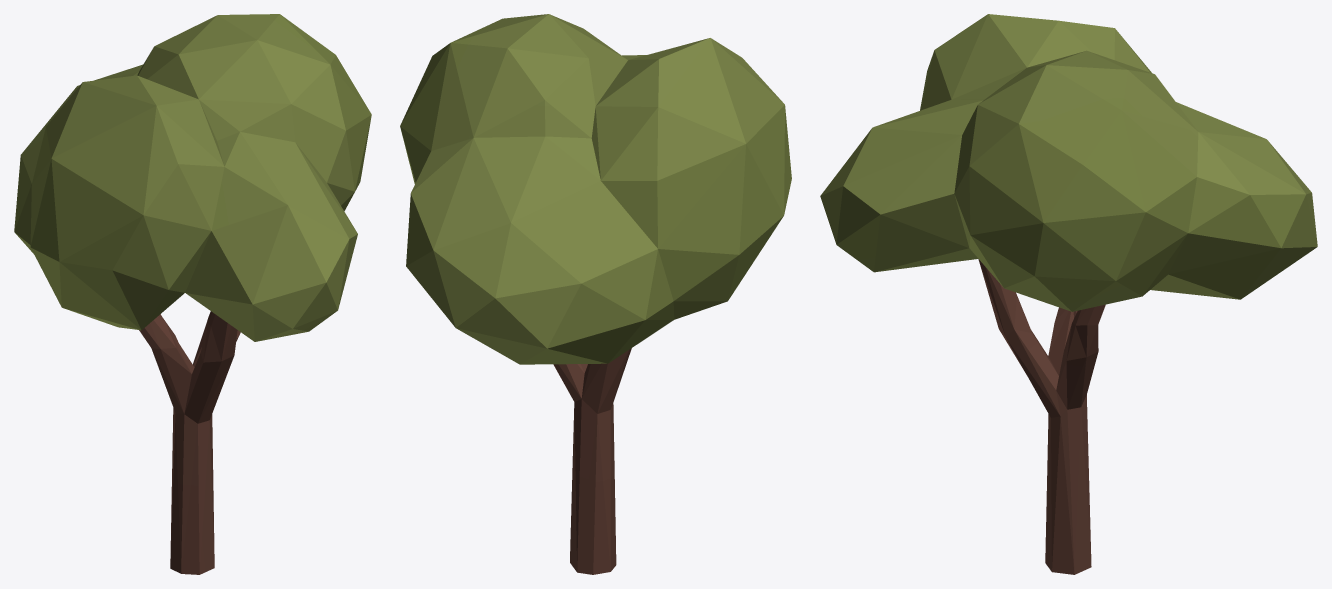
The model's file is Tree1.fbx.
The picture shows the model from 3 angles, left to right: view 1: azimuth 30°, elevation 25°; view 2: azimuth 150°, elevation 25°; view 3: azimuth 270°, elevation 25°; orthographic projection.
Parts seen in each view (by area): view 1: Cylinder; view 2: Cylinder; view 3: Cylinder.
Boxes of the visible parts, x1,y1,x2,y2 form: Cylinder: [14, 14, 371, 574]; Cylinder: [400, 14, 791, 574]; Cylinder: [820, 14, 1317, 574].
Bounding box in the file's own units: 360 × 546 × 468.
